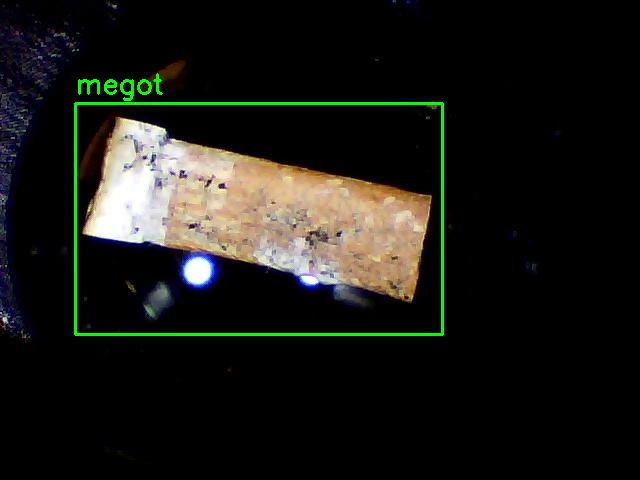megot: (75, 103, 442, 334)
